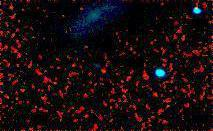star: (91, 55, 121, 85)
